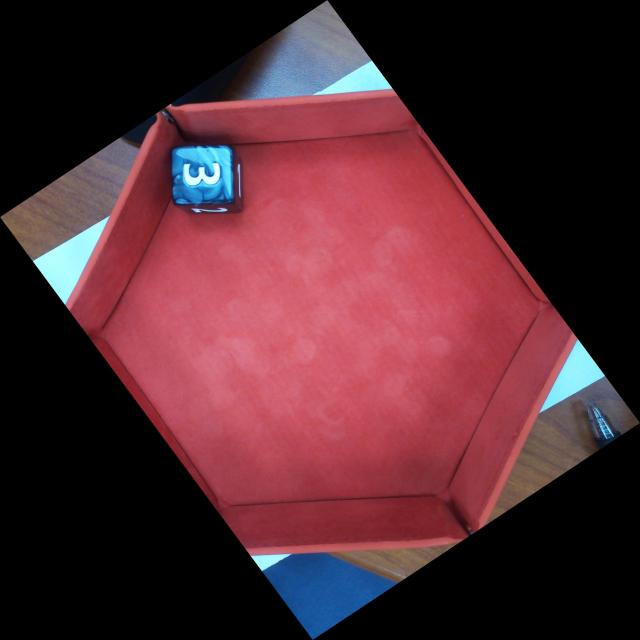dice: (173, 146, 232, 204)
